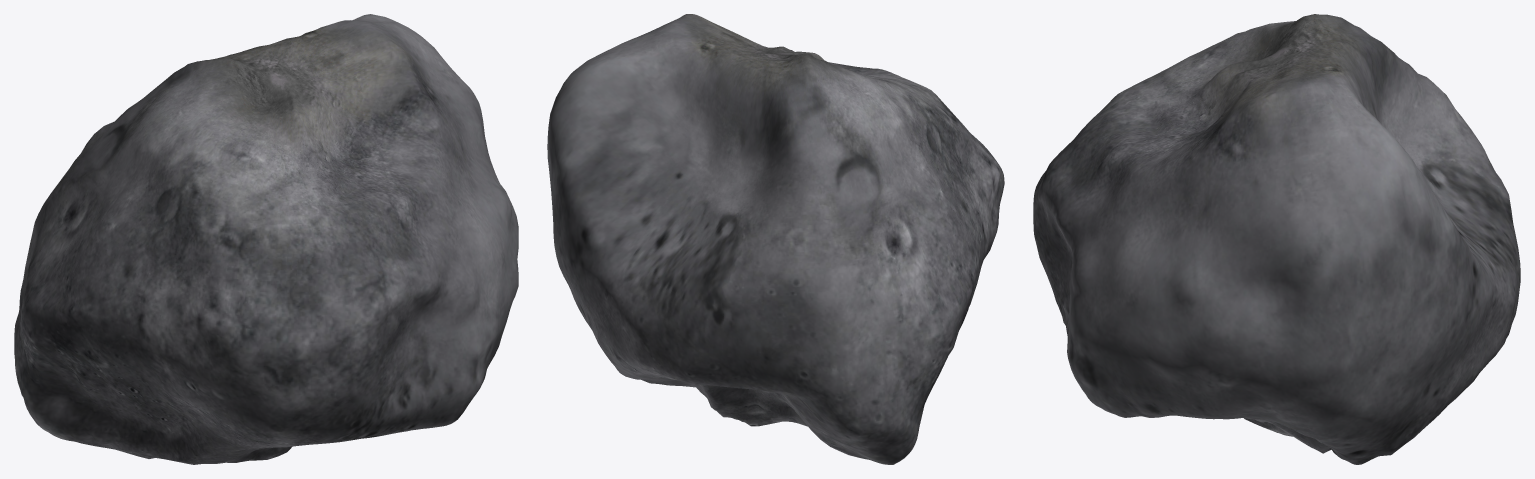
Rendered from mathilde.glb.
3 renders of one model, left to right at view 1: azimuth 30°, elevation 25°; view 2: azimuth 150°, elevation 25°; view 3: azimuth 270°, elevation 25°, orthographic. The views are drawn at different scales.
Parts seen in each view (by area): view 1: mathilde; view 2: mathilde; view 3: mathilde.
Boxes of the visible parts, x1,y1,x2,y2 form: mathilde: [14, 14, 518, 464]; mathilde: [547, 14, 1004, 464]; mathilde: [1033, 14, 1520, 464].
Bounding box in the file's own units: 56.96 × 50.43 × 54.17.
Materials: 1 (1 with a texture image).
